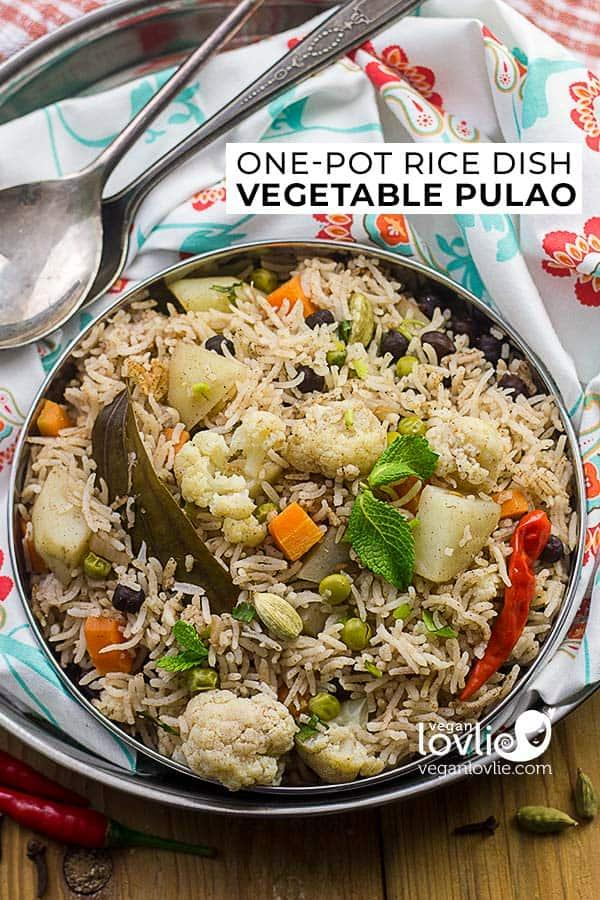veg-pulao: (43, 253, 559, 775)
